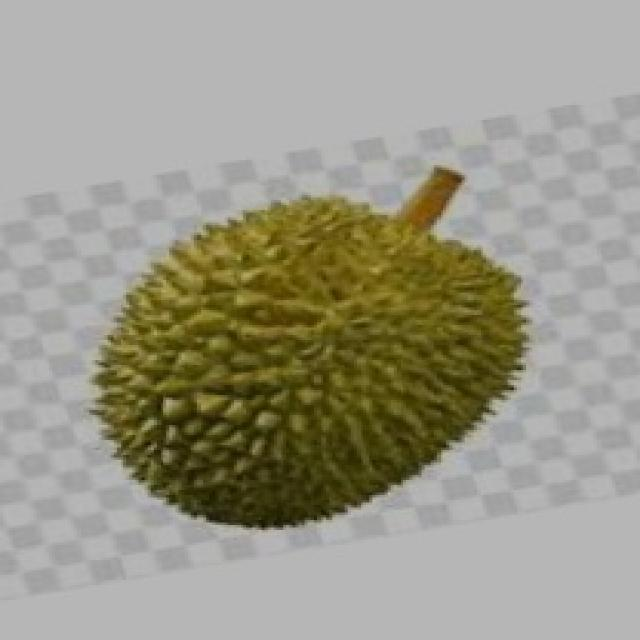fruit: (43, 173, 449, 565)
